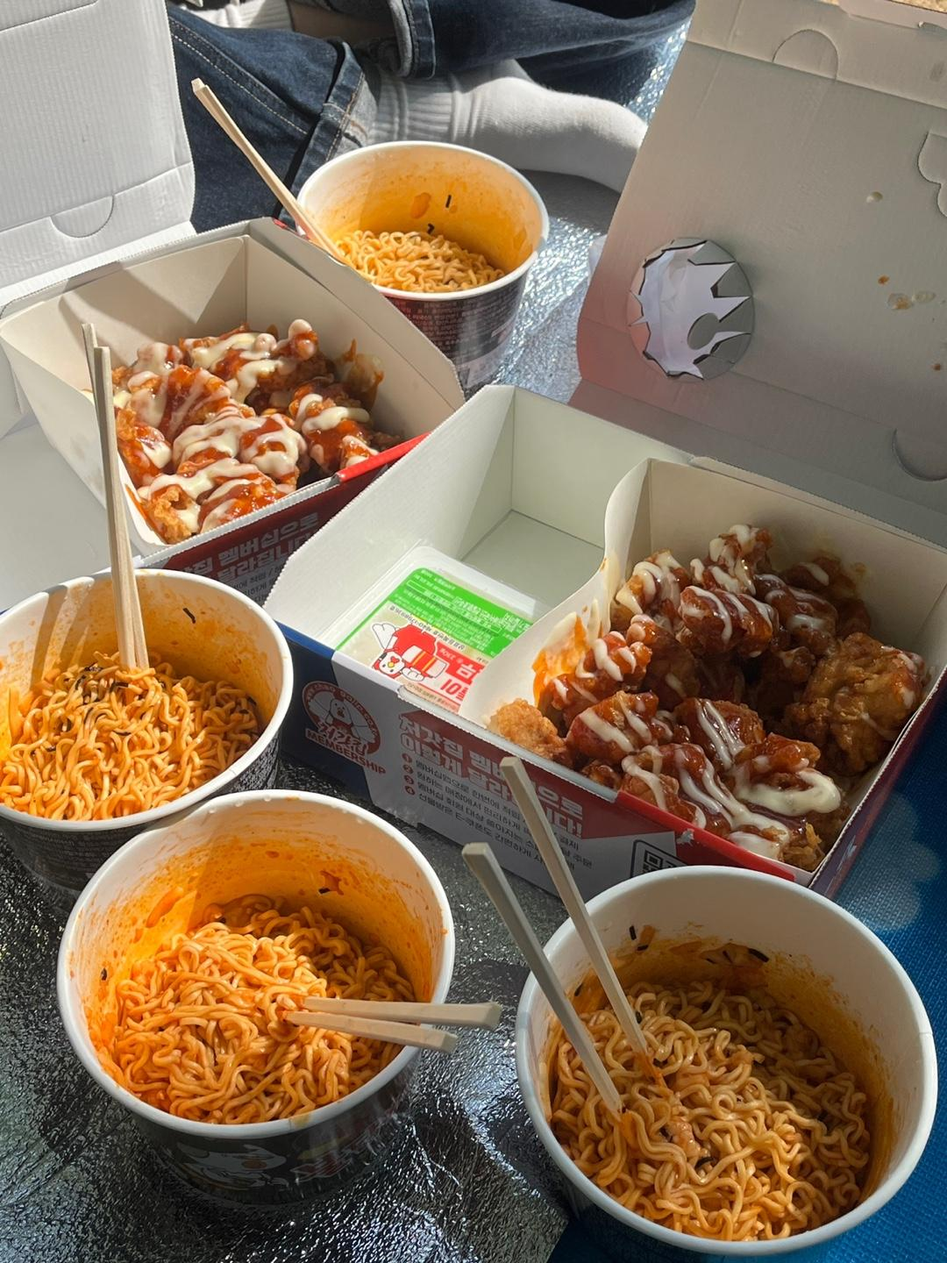Lunch Box: (267, 0, 946, 894), (0, 0, 462, 599)
cup: (516, 867, 936, 1262), (59, 791, 453, 1202), (0, 569, 292, 896), (299, 142, 547, 392)
